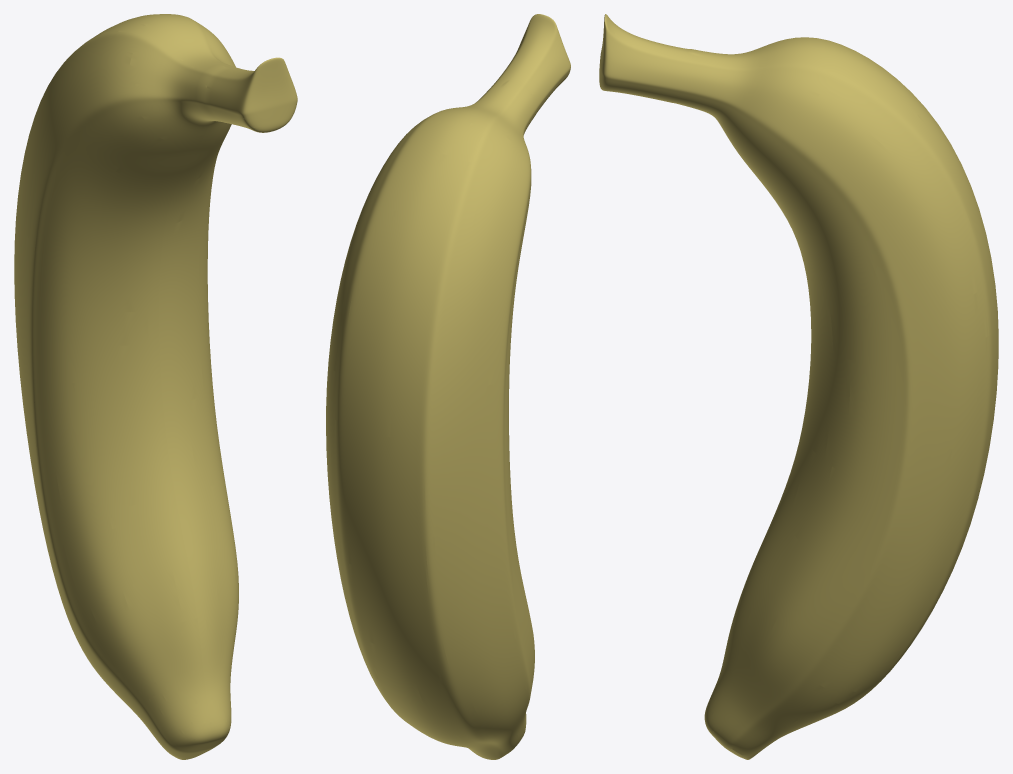
File: banana_001.obj
3 renders of one model, left to right at view 1: azimuth 30°, elevation 25°; view 2: azimuth 150°, elevation 25°; view 3: azimuth 270°, elevation 25°, orthographic. The views are drawn at different scales.
Parts seen in each view (by area): view 1: object_0_Mesh_0; view 2: object_0_Mesh_0; view 3: object_0_Mesh_0.
Part boxes in pixels (x1=…): object_0_Mesh_0: x1=14, y1=14, x2=297, y2=759; object_0_Mesh_0: x1=326, y1=14, x2=570, y2=759; object_0_Mesh_0: x1=599, y1=14, x2=998, y2=759.
Size of the model in its own units: 1.65 by 6.78 by 3.29.
Materials: 1 (1 with a texture image).
